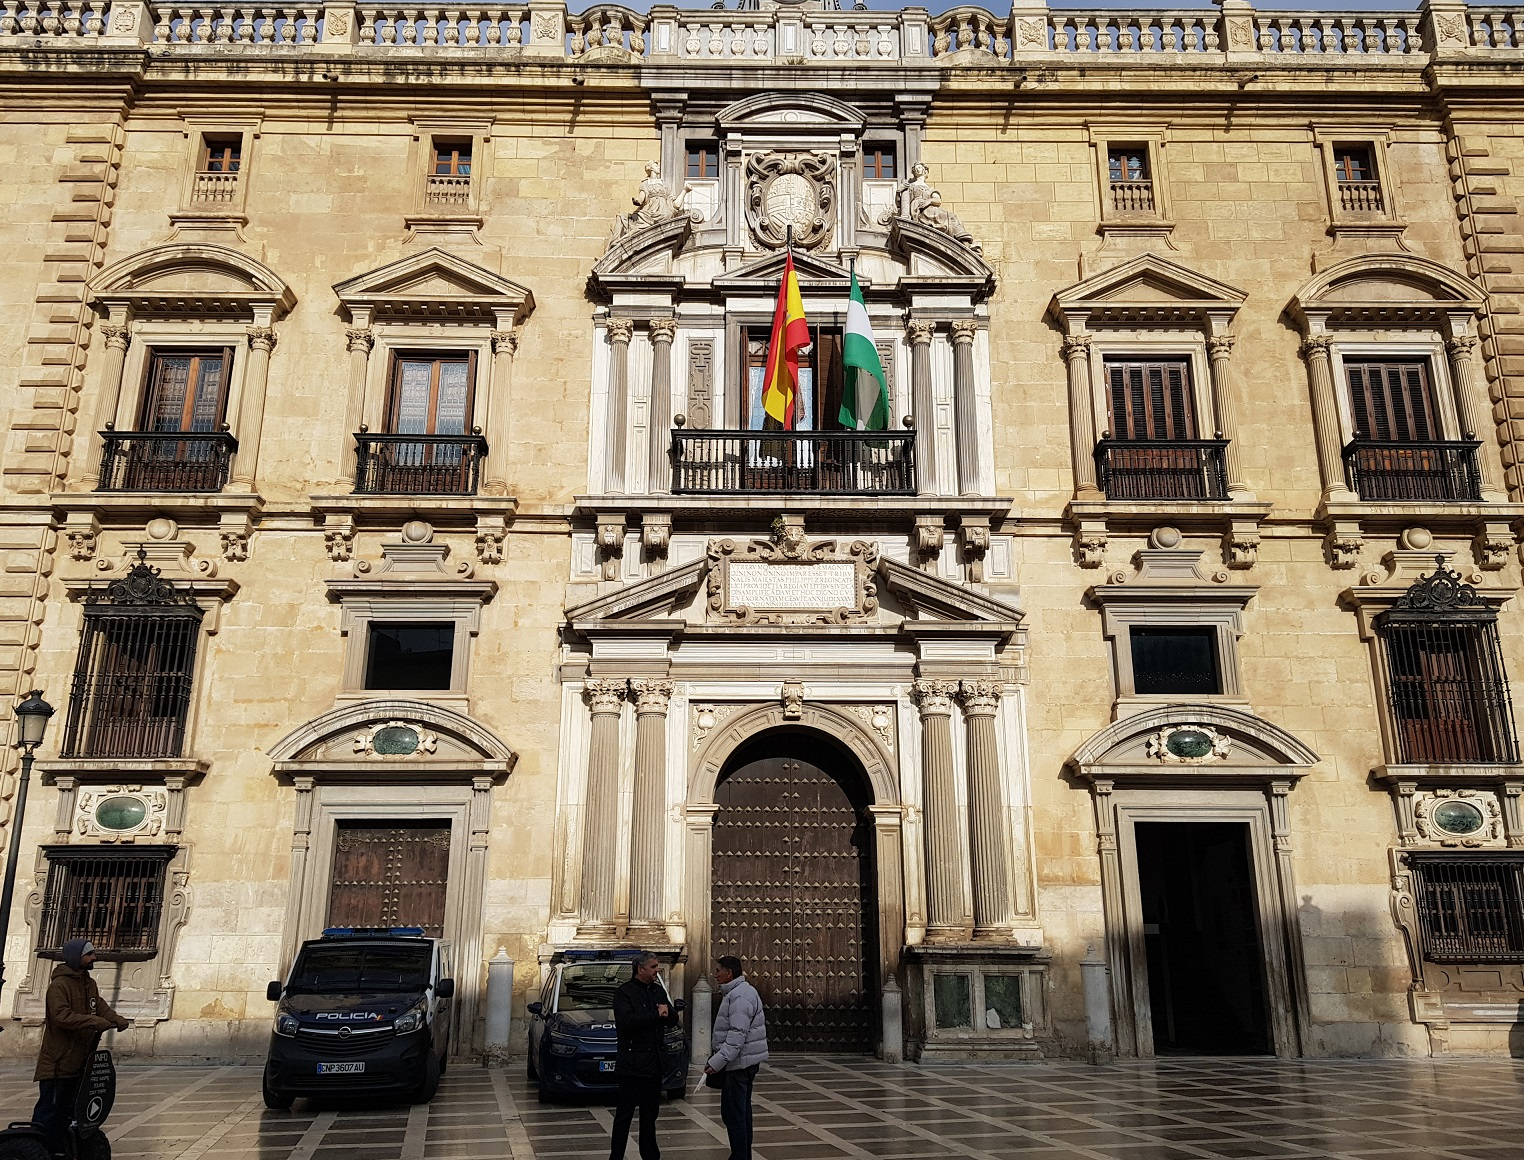arco-medio-punto: (696, 714, 893, 857)
fronton: (331, 242, 538, 314), (1049, 251, 1260, 316), (709, 251, 876, 305)
fronton-curvo: (1059, 701, 1321, 792), (257, 696, 517, 787), (80, 242, 294, 317), (1283, 253, 1494, 322), (711, 89, 871, 134)
fronton-partido: (559, 551, 1035, 643), (588, 216, 999, 295)
vano-adintelado: (1113, 801, 1294, 1059), (1325, 338, 1478, 509), (96, 330, 253, 495), (311, 799, 471, 935), (362, 335, 493, 500), (1088, 338, 1215, 504)
